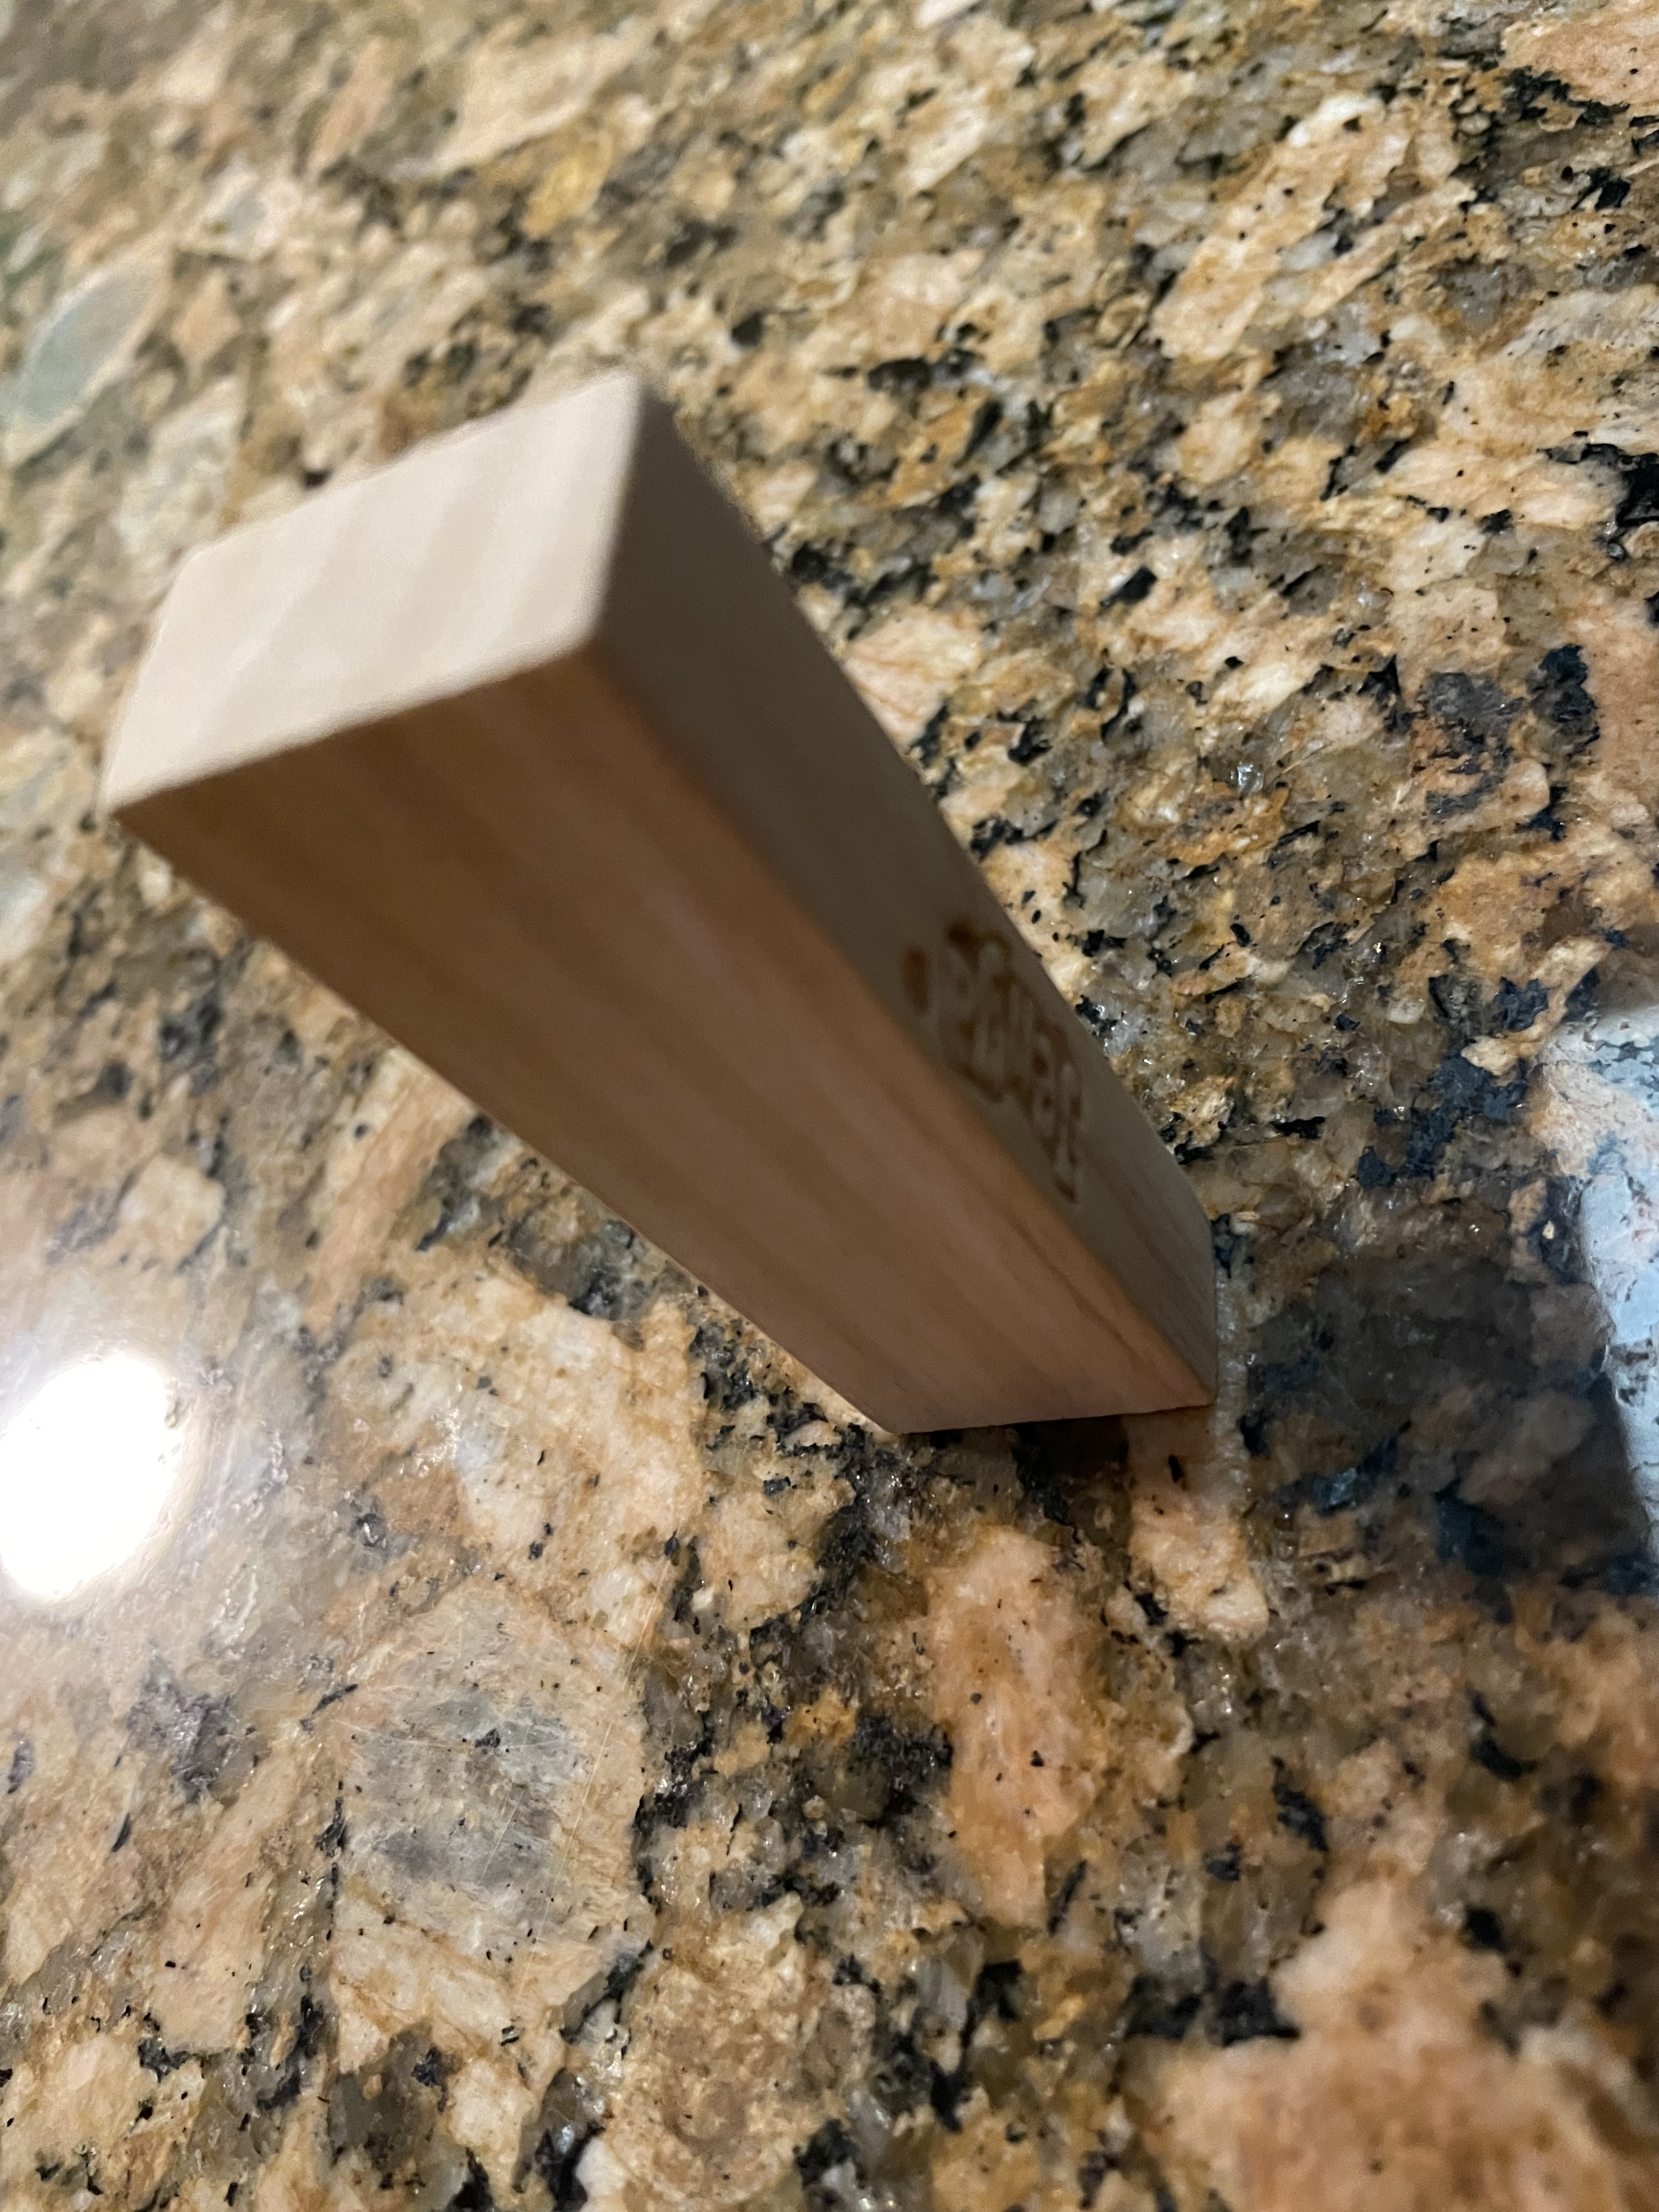jenga: (99, 392, 1232, 1433)
